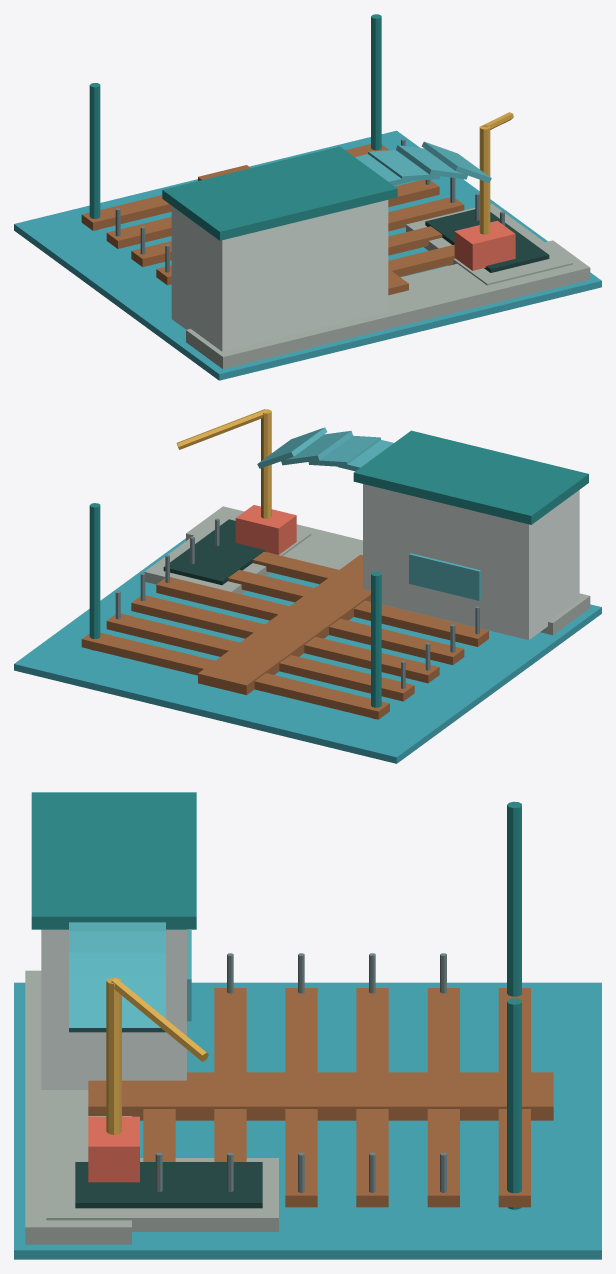
Rendered from marina_lv3.glb.
The picture shows the model from 3 angles, top to bottom: view 1: azimuth 30°, elevation 25°; view 2: azimuth 150°, elevation 25°; view 3: azimuth 270°, elevation 25°; orthographic projection. The views are drawn at different scales.
Parts seen in each view (by area): view 1: rough, glossy, metallic; view 2: rough, glossy, metallic; view 3: rough, glossy, metallic.
Boxes of the visible parts, x1,y1,x2,y2 form: rough: (81,14,590,369); glossy: (14,130,601,380); metallic: (115,138,504,272); rough: (81,409,590,719); glossy: (14,427,601,763); metallic: (115,518,479,688); rough: (25,792,553,1244); glossy: (14,922,601,1259); metallic: (155,953,446,1192).
Size of the model in its own units: 9.8 by 3.83 by 9.1.
